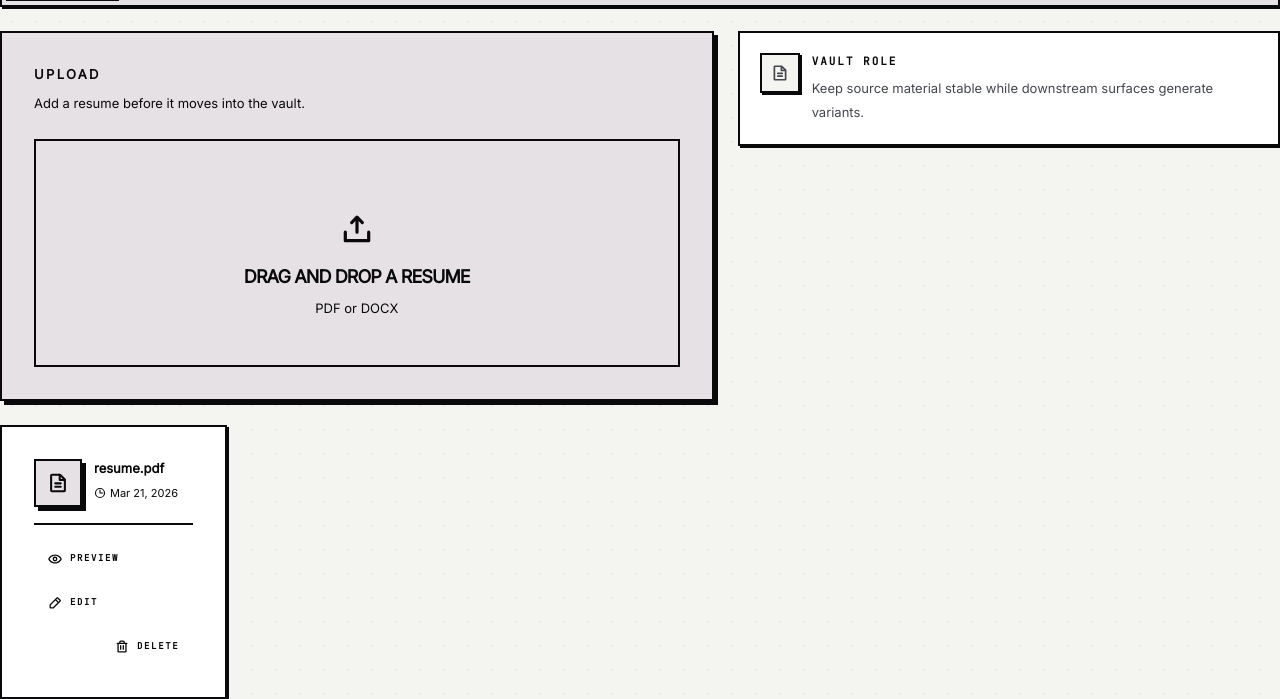
Test: DocumentVault › cancels resume edits and restores the original value on reopen
(page scrolled)
Expected: the text "resume.pdf" is shown, [94, 460, 164, 476]
Click the button "Edit" at (73,603), box [34, 585, 112, 621]
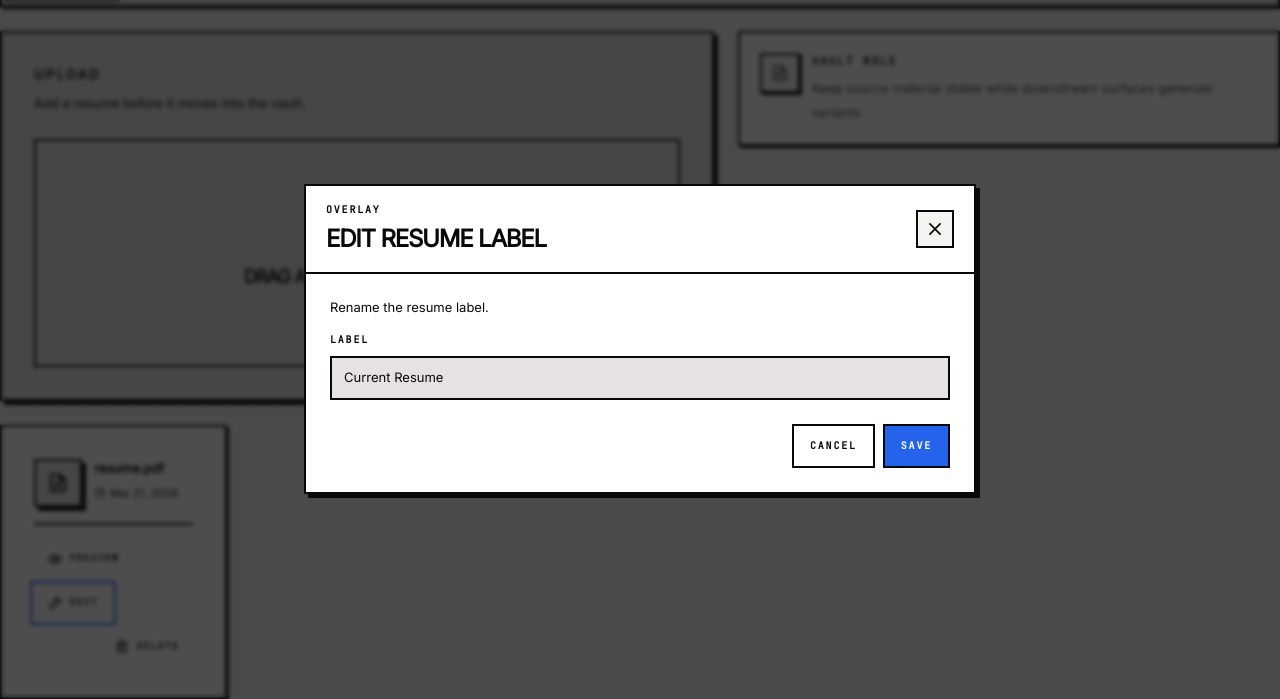
Replace the text in the field named "Resume label" with "Discarded Label" at (640,378), box [330, 356, 950, 400]
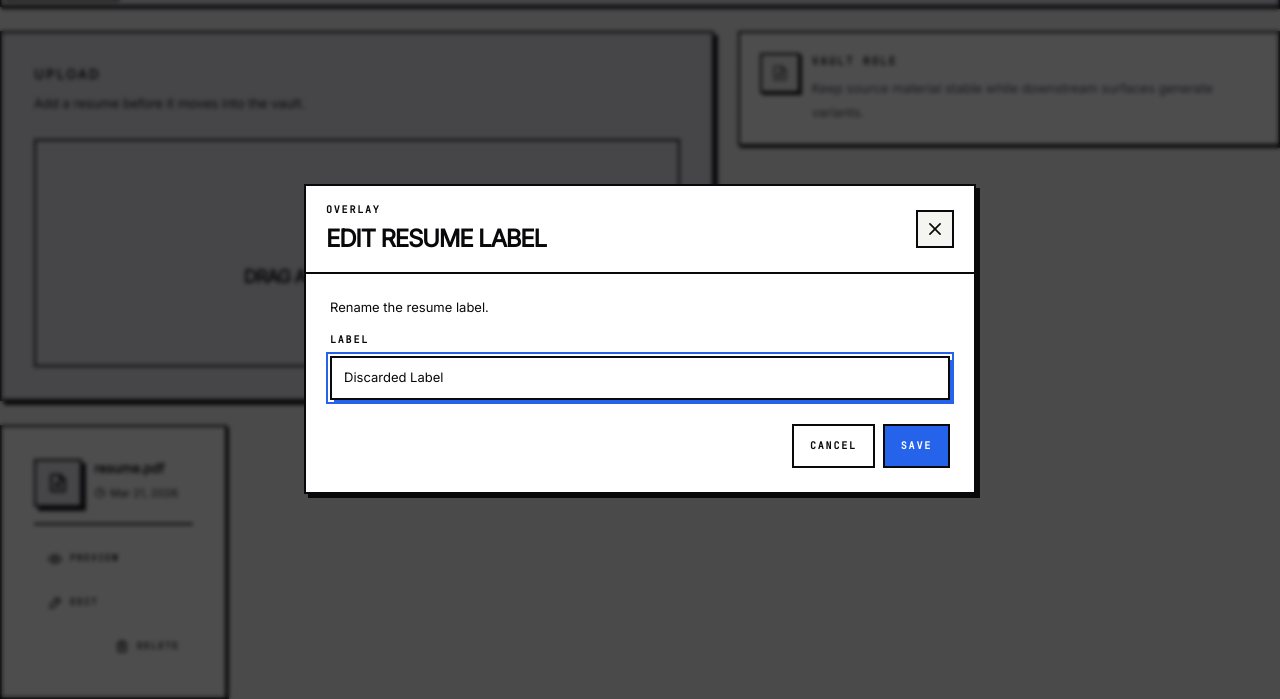
Click the button "Cancel" at (833,446), box [792, 424, 875, 468]
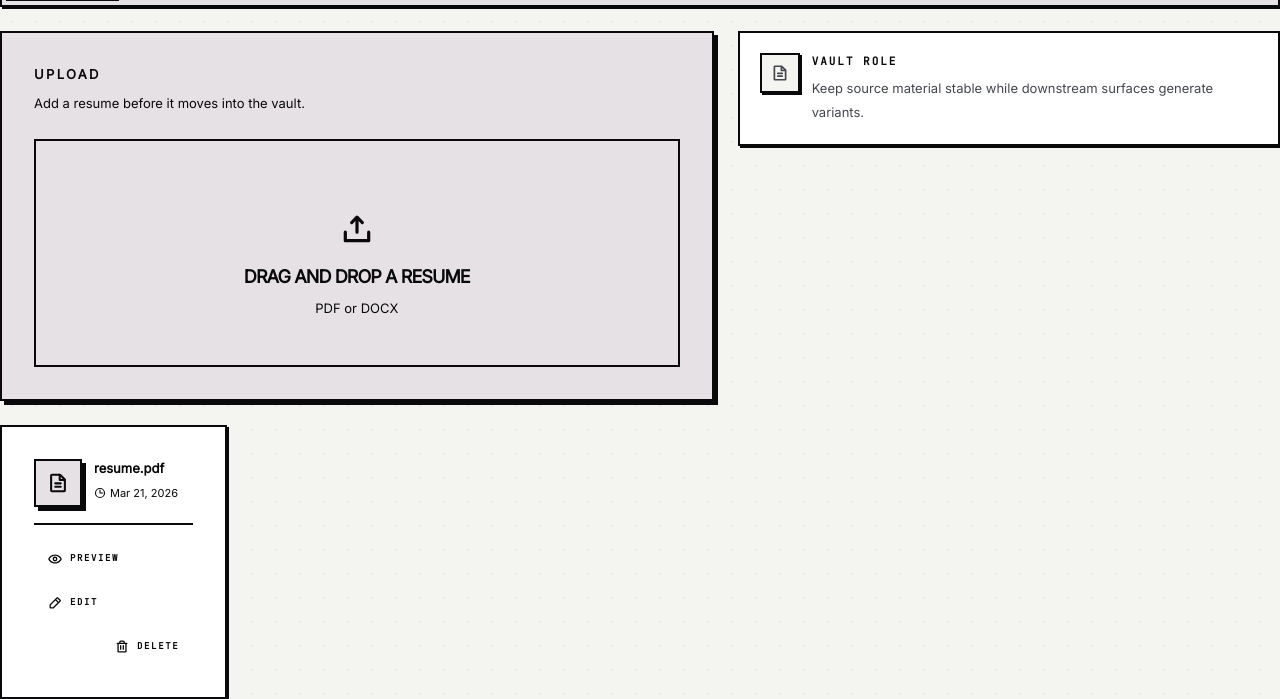
Result: the heading "Edit resume label" is gone
Click the button "Edit" at (73,603), box [34, 585, 112, 621]
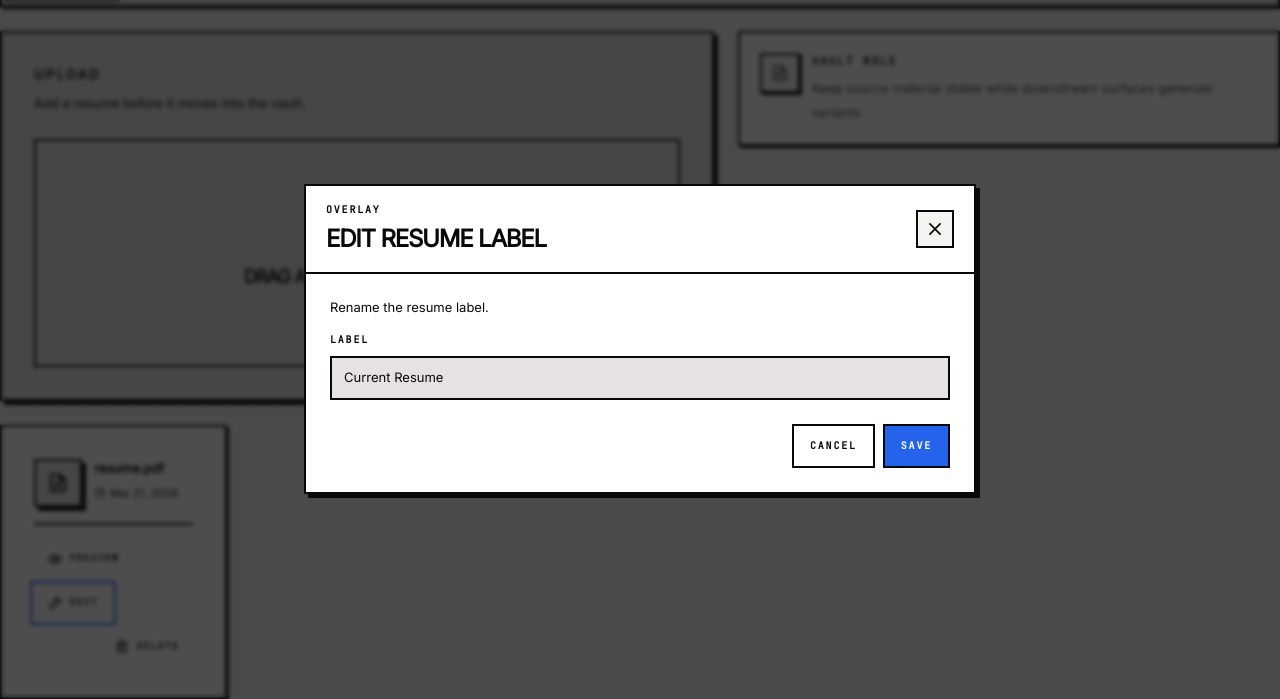
Result: the field named "Resume label" holds "Current Resume" at [330, 356, 950, 400]
